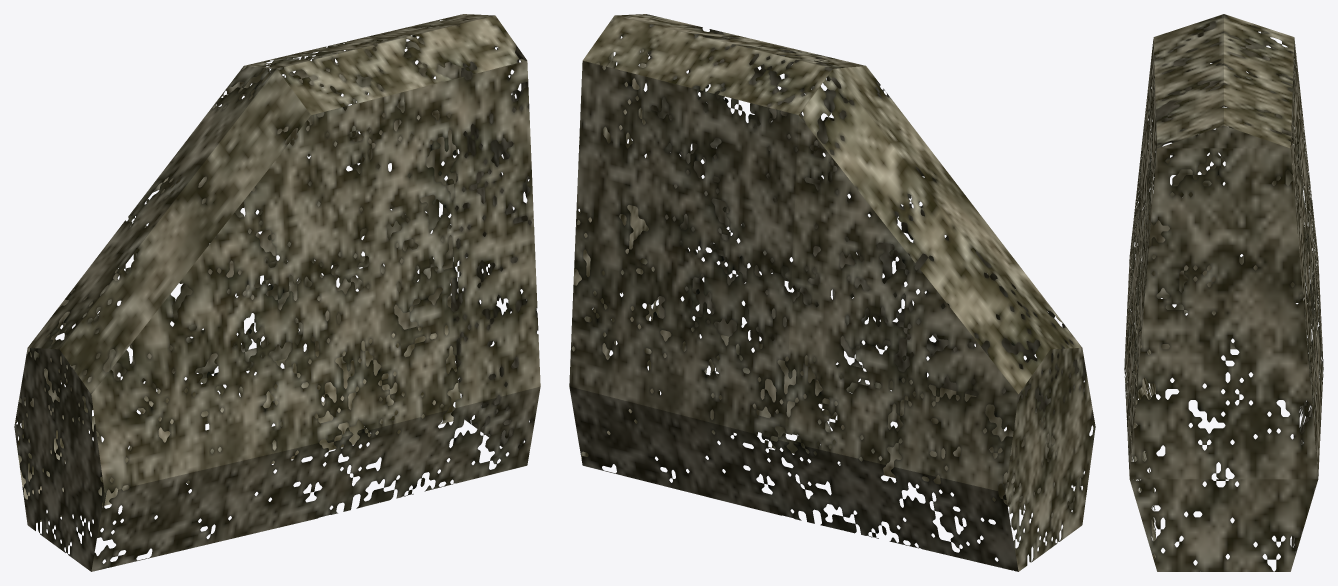
Rendered from bush_connector_dead.fbx.
3 views of the same model, side by side, from view 1: azimuth 30°, elevation 25°; view 2: azimuth 150°, elevation 25°; view 3: azimuth 270°, elevation 25° (orthographic). The views are drawn at different scales.
Parts seen in each view (by area): view 1: bush_connector_dead; view 2: bush_connector_dead; view 3: bush_connector_dead.
Boxes of the visible parts, box(x1,y1,x2,y2) form: bush_connector_dead: box(14, 14, 540, 571); bush_connector_dead: box(569, 14, 1095, 571); bush_connector_dead: box(1124, 14, 1323, 571).
Bounding box in the file's own units: 201 × 188 × 75.92.
1 material, 1 textured.
